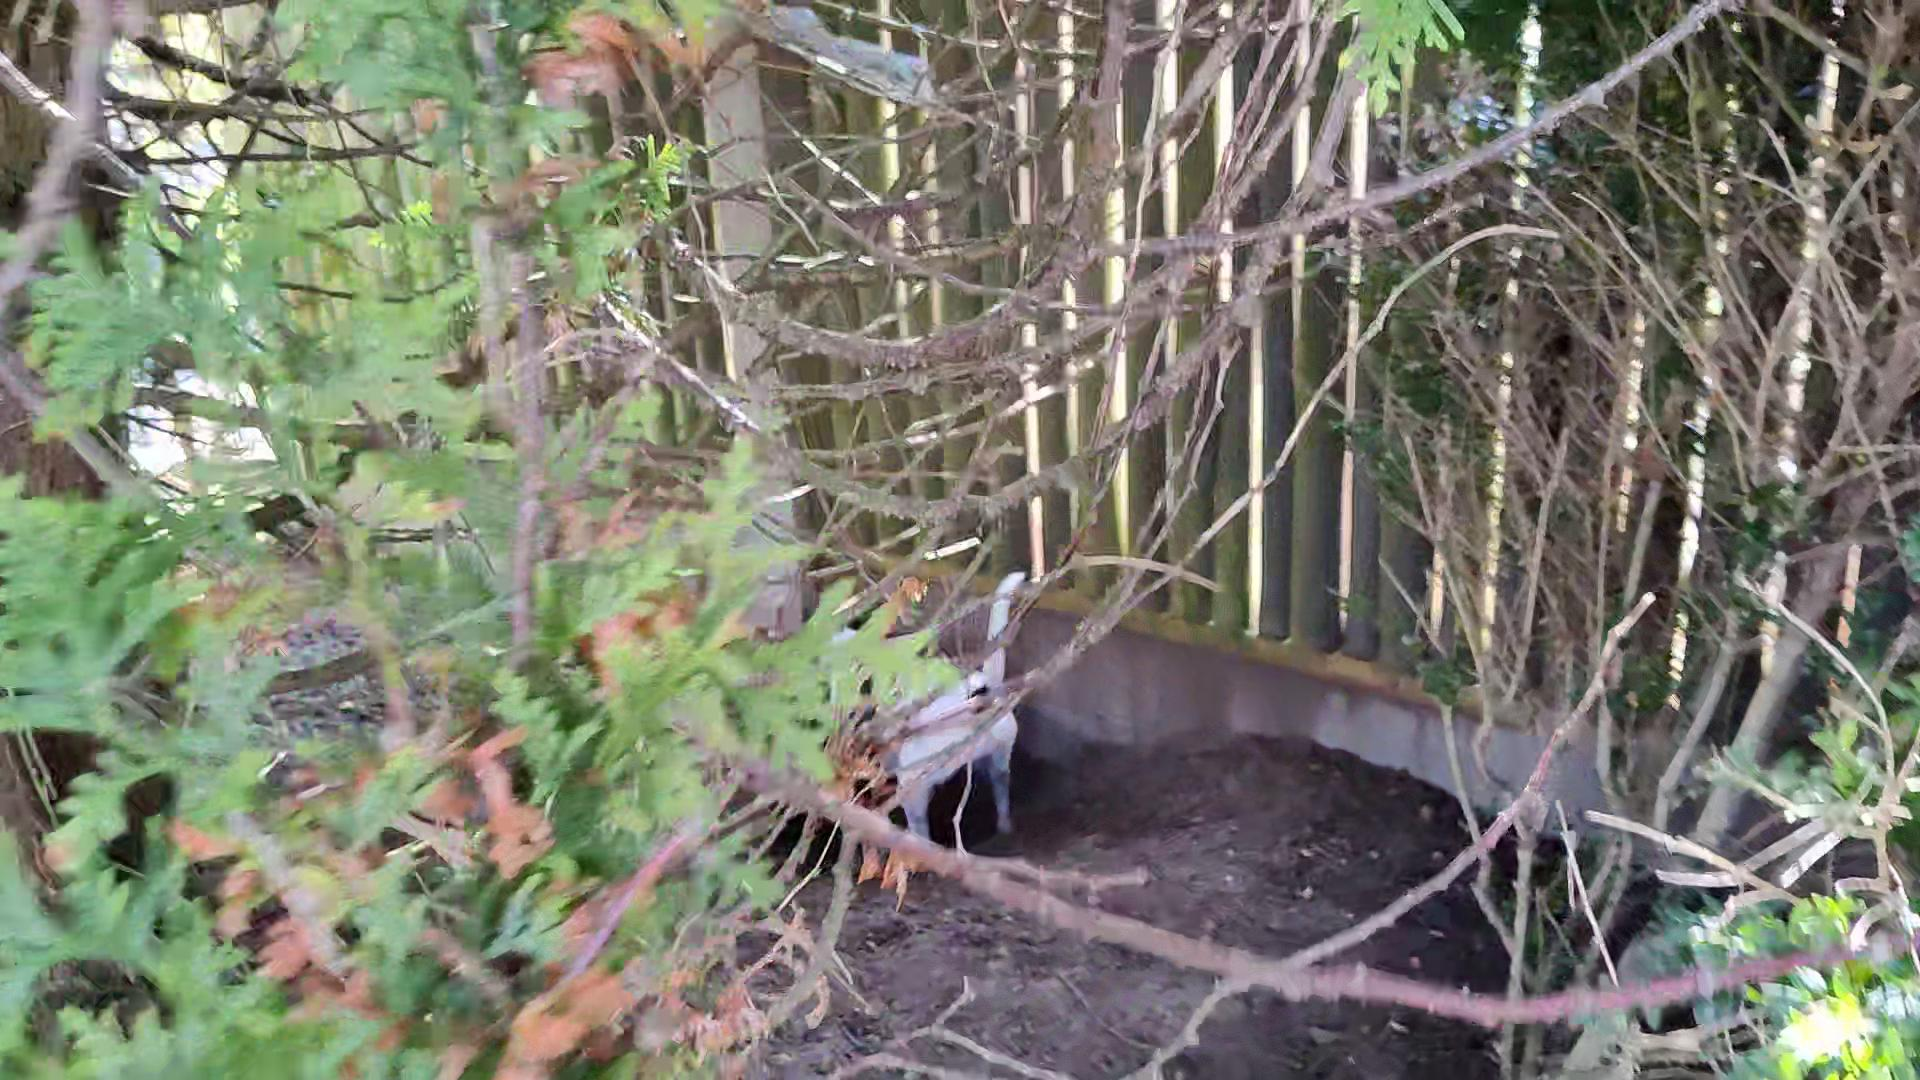Dog: (789, 560, 1054, 893)
